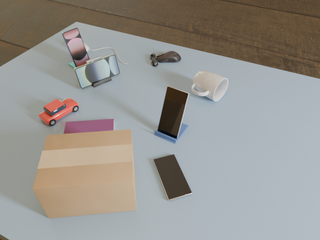book: (64, 119, 114, 134)
box: (33, 129, 136, 218)
cup: (191, 71, 228, 101)
mouse: (150, 51, 181, 66)
phone: (153, 154, 192, 201), (158, 86, 189, 139), (74, 54, 120, 89), (62, 28, 89, 67)
toy_car: (39, 98, 79, 126)
